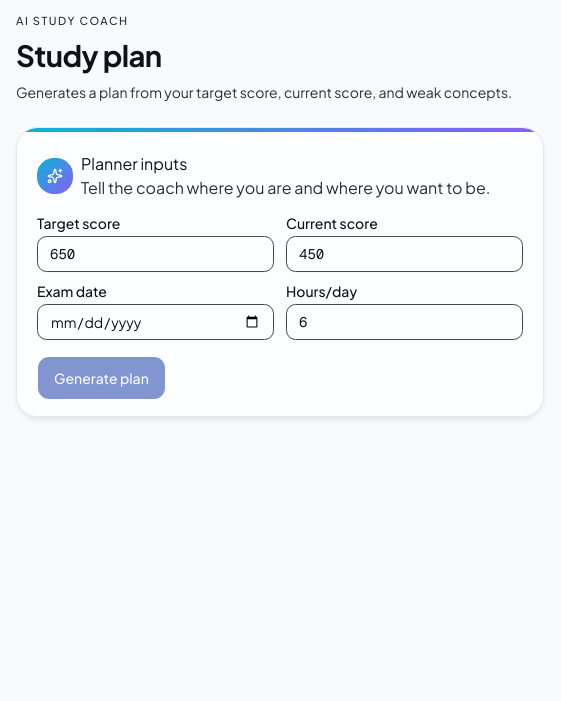
Test: Study plan shell › labels a deterministic fallback plan as a Standard plan, not AI-personalized
This screenshot has width=561, height=701.
In the date field: (156, 322) [37,304,274,340], type "2026-05-05"
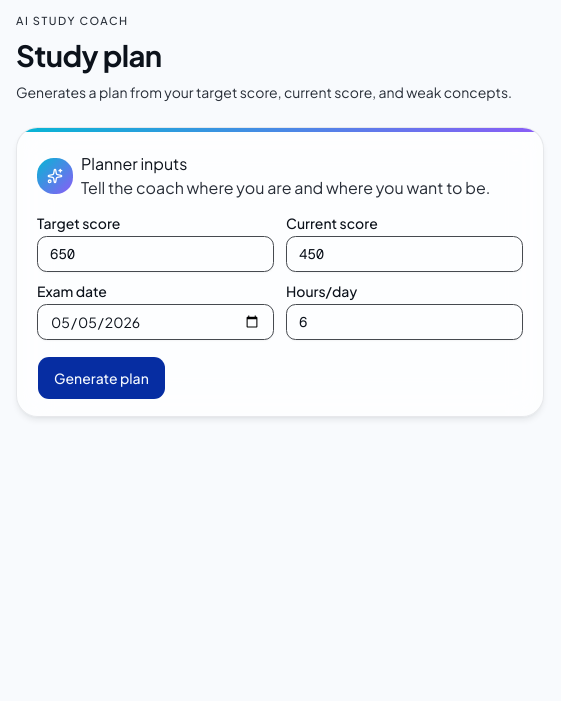
Click the button "Generate plan": (101, 378) [37,356,166,400]
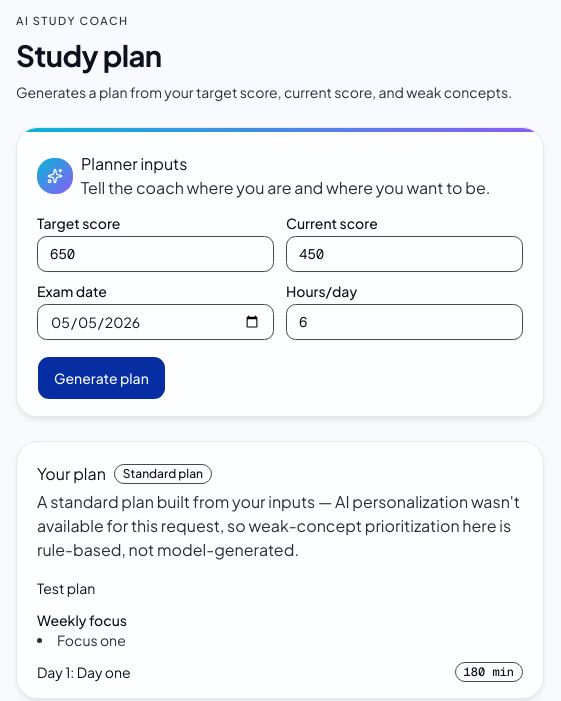
Result: the text "Standard plan" is shown at [114,464,212,484]
Result: the text "AI personalization wasn't available for this request" is shown at [37,491,520,560]
